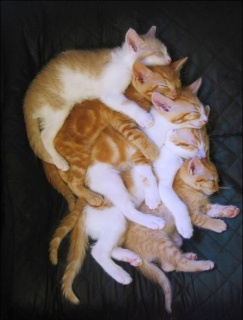Cat: (20, 25, 238, 315)
